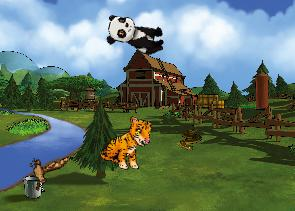eagle: (19, 140, 73, 198)
panda: (103, 12, 168, 57)
tiger: (98, 111, 155, 174)
